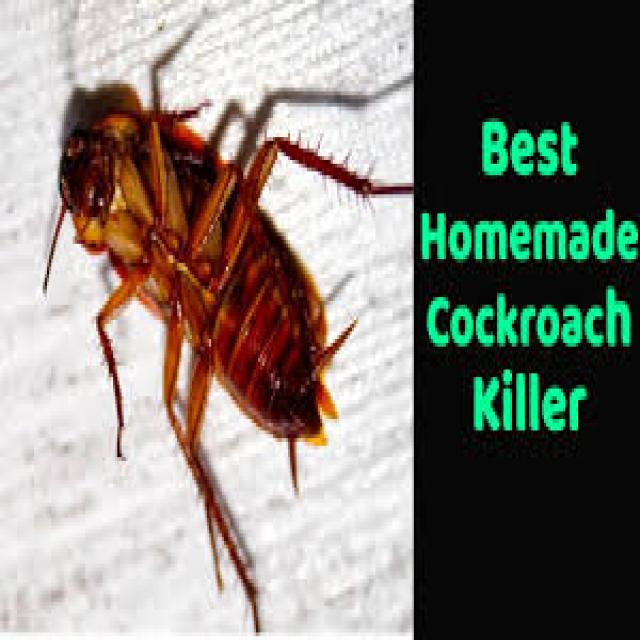Cockroach: (32, 0, 410, 633)
